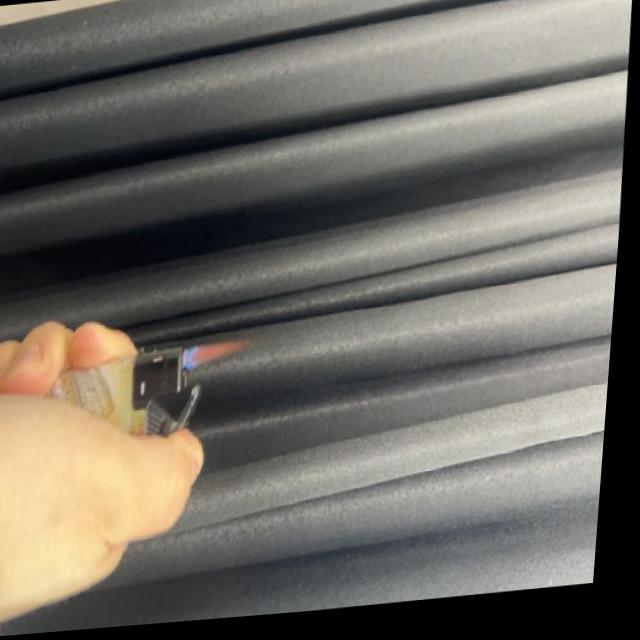Fire: (186, 343, 249, 374)
